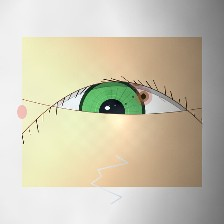foreign_body_visible: (125, 109, 164, 140)
